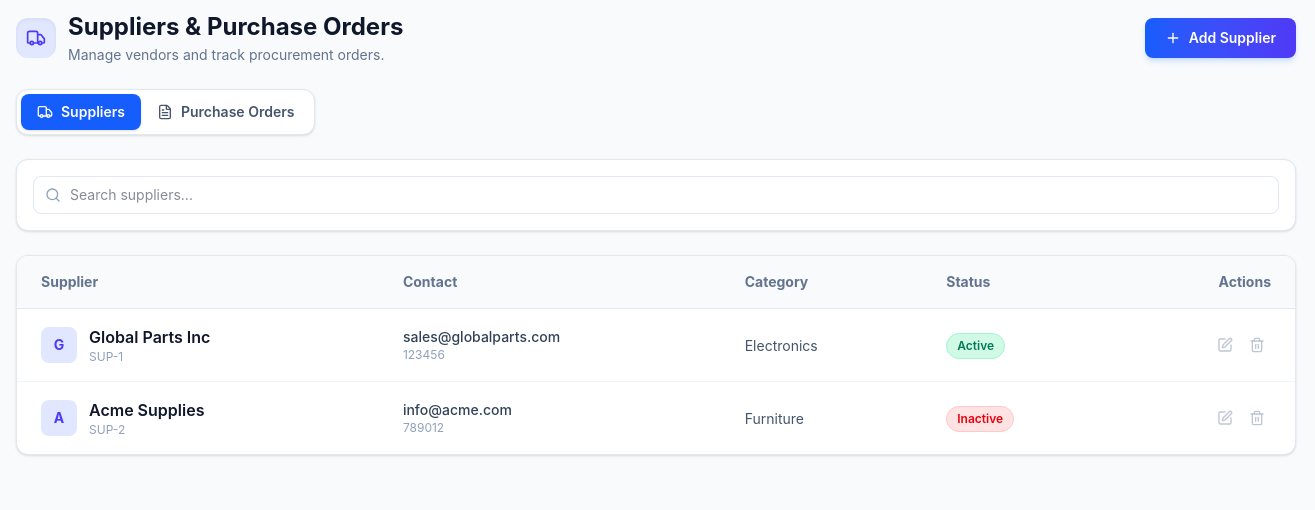
Test: Suppliers Component › switches between Suppliers and PO tabs
The width and height of the screenshot is (1315, 510).
Expected: the text "Global Parts Inc" is shown, [89,325,210,349]
Click the button "Purchase Orders".
click(226, 112)  # box [141,94,310,130]
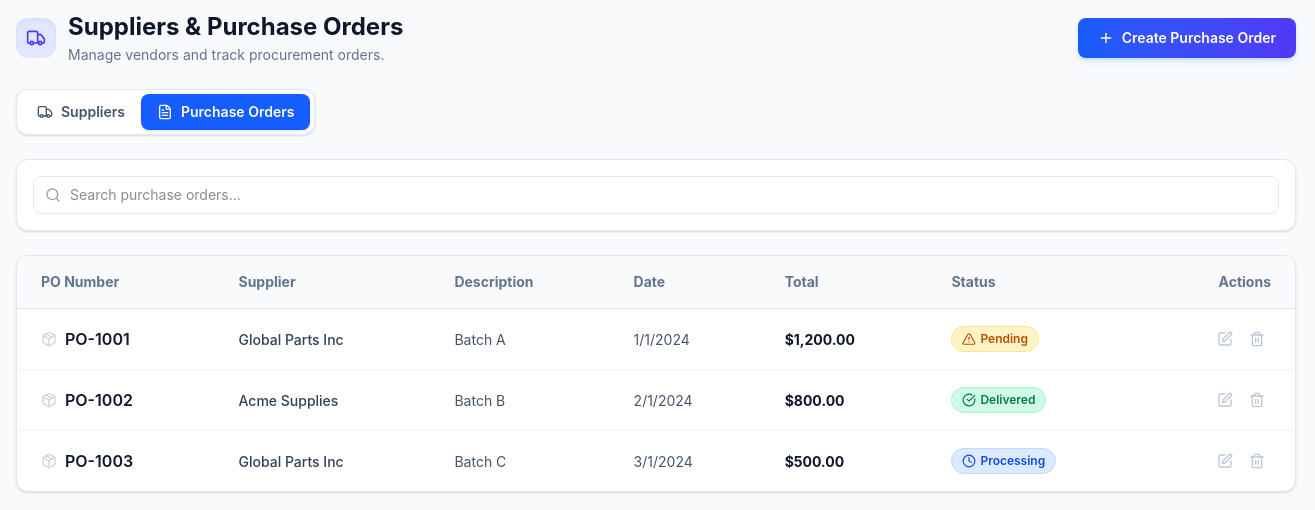
Now the text "PO-1001" is shown, box [65,327,130,351]
Now the text "Batch A" is shown, box [454,331,506,348]
Now the text "PO-1002" is shown, box [65,388,133,412]
